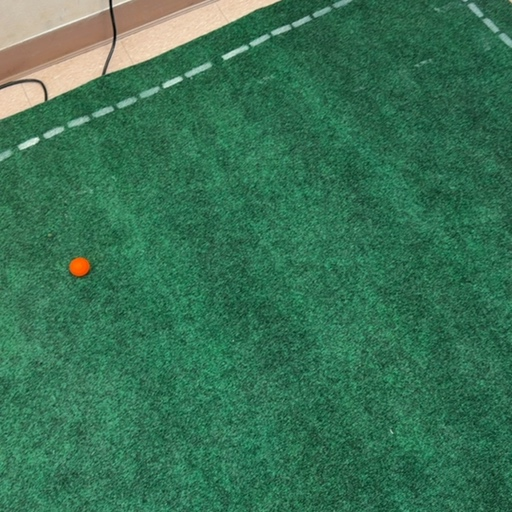Ball: (70, 258, 90, 276)
